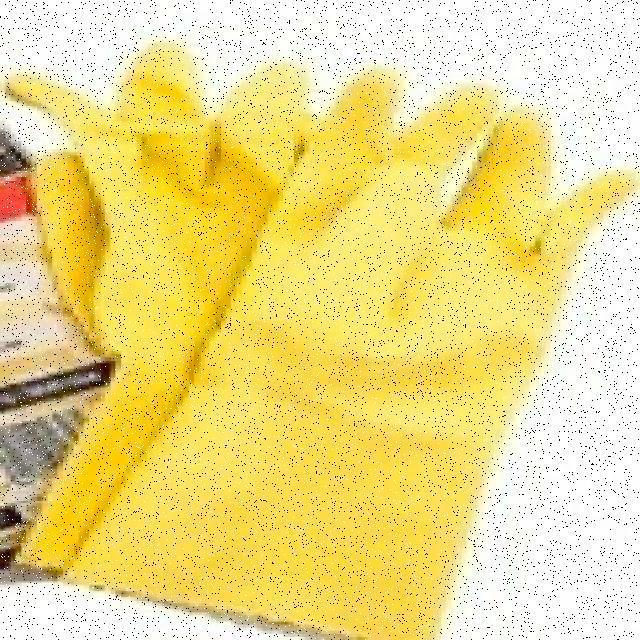Gloves: (48, 60, 531, 596)
